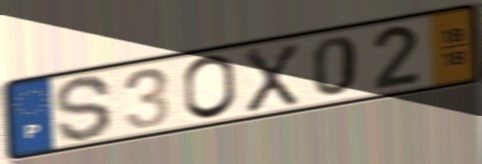0: (310, 34, 359, 100)
2: (372, 22, 427, 94)
3: (122, 67, 170, 130)
O: (181, 53, 240, 123)
S: (52, 73, 115, 145)
X: (242, 41, 301, 116)
